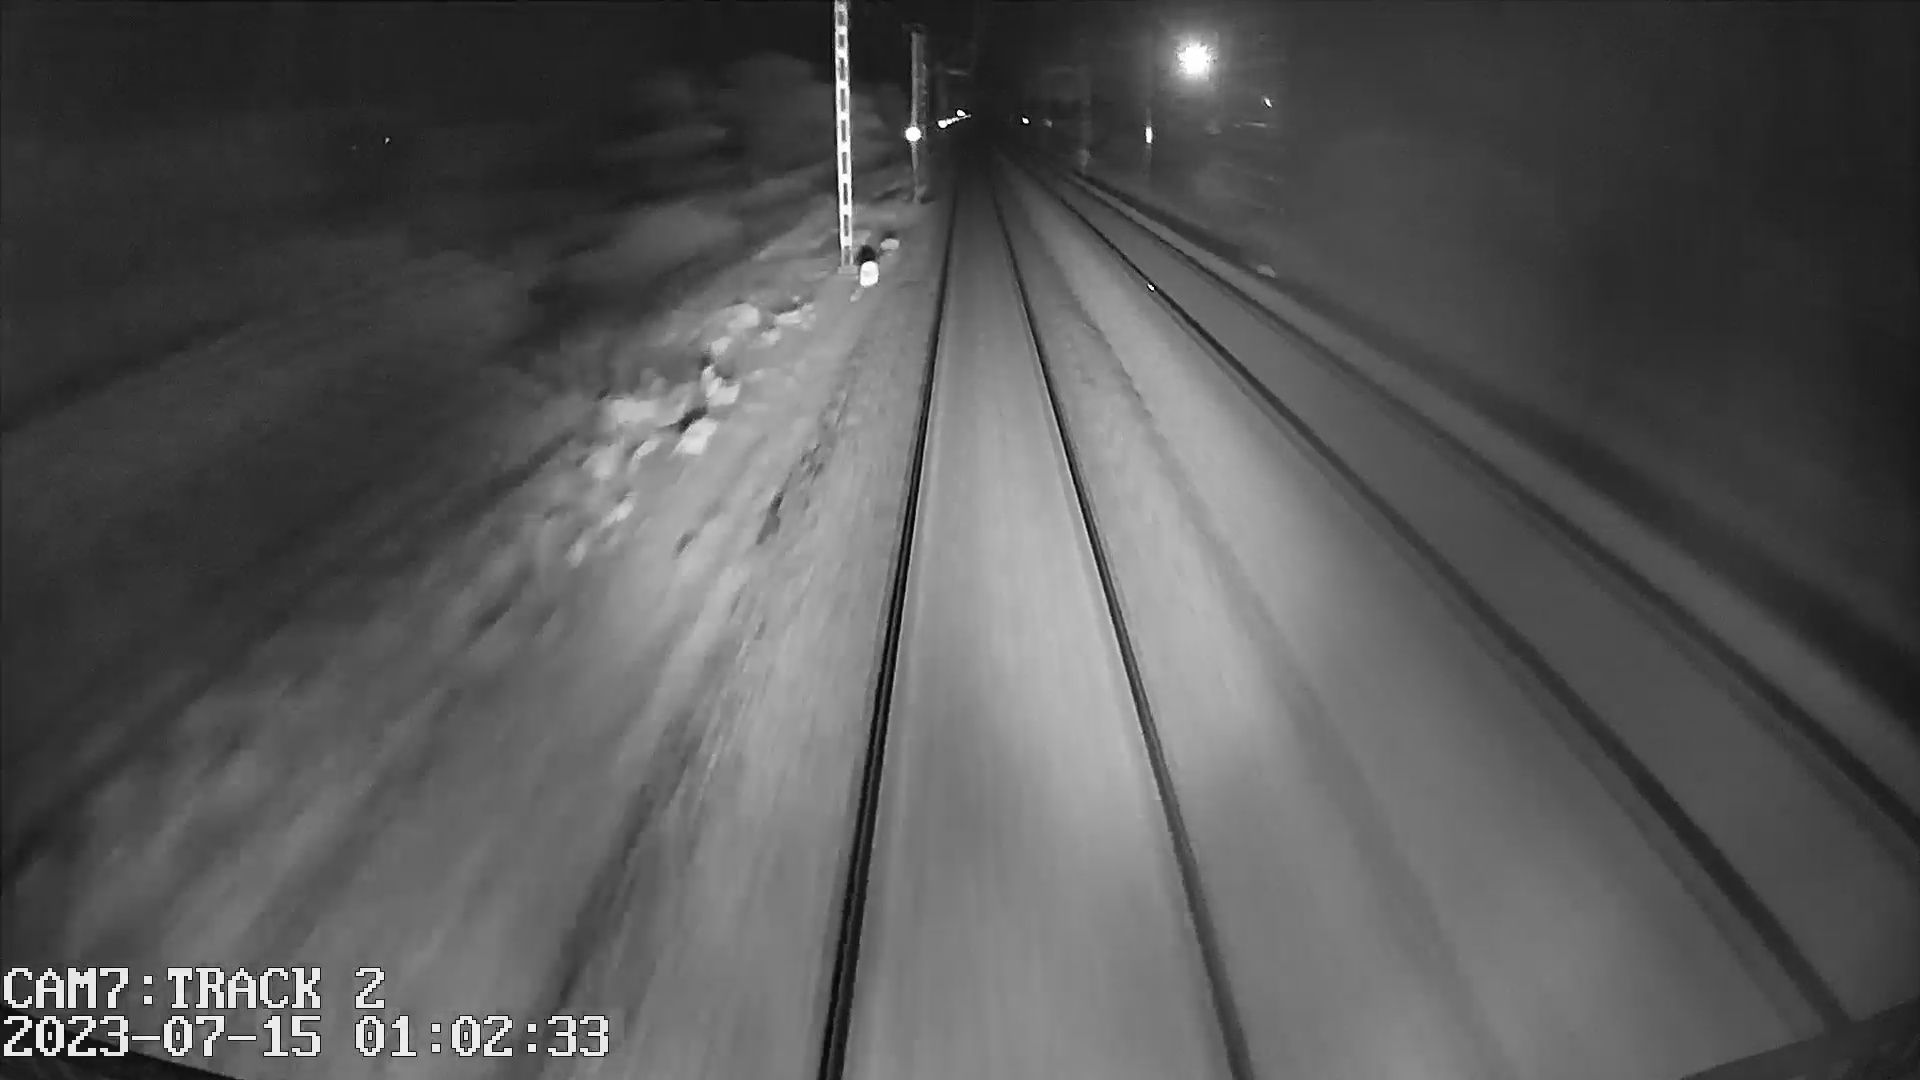track1: (841, 170, 1244, 1061)
track2: (1069, 197, 1904, 1005)
